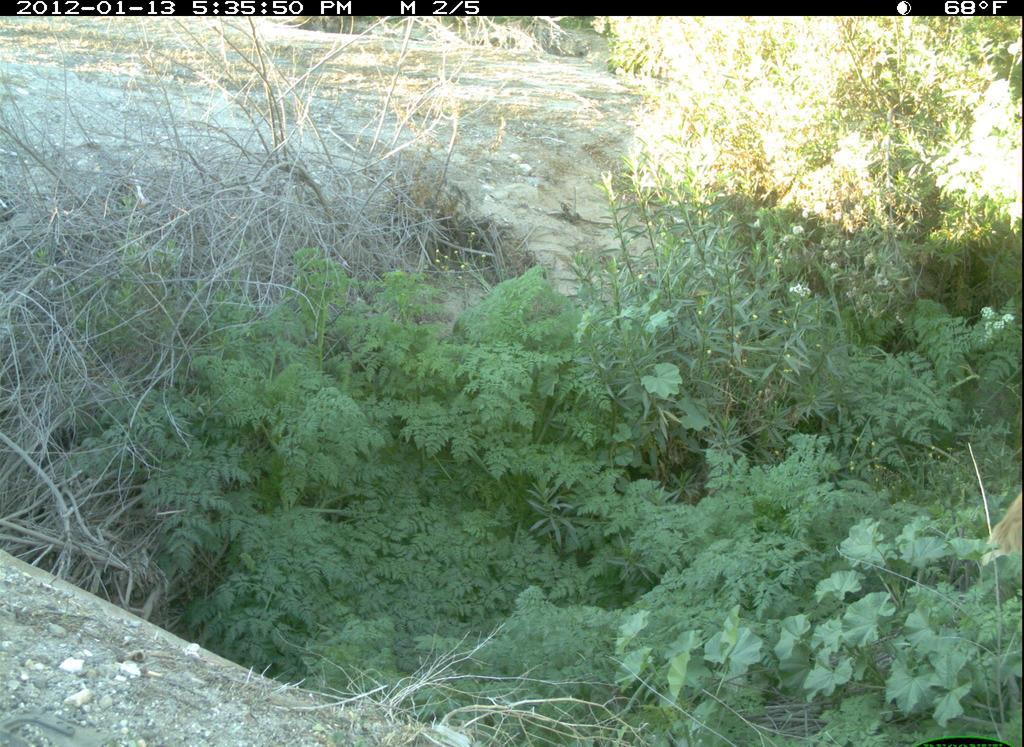dog: (982, 477, 1023, 570)
